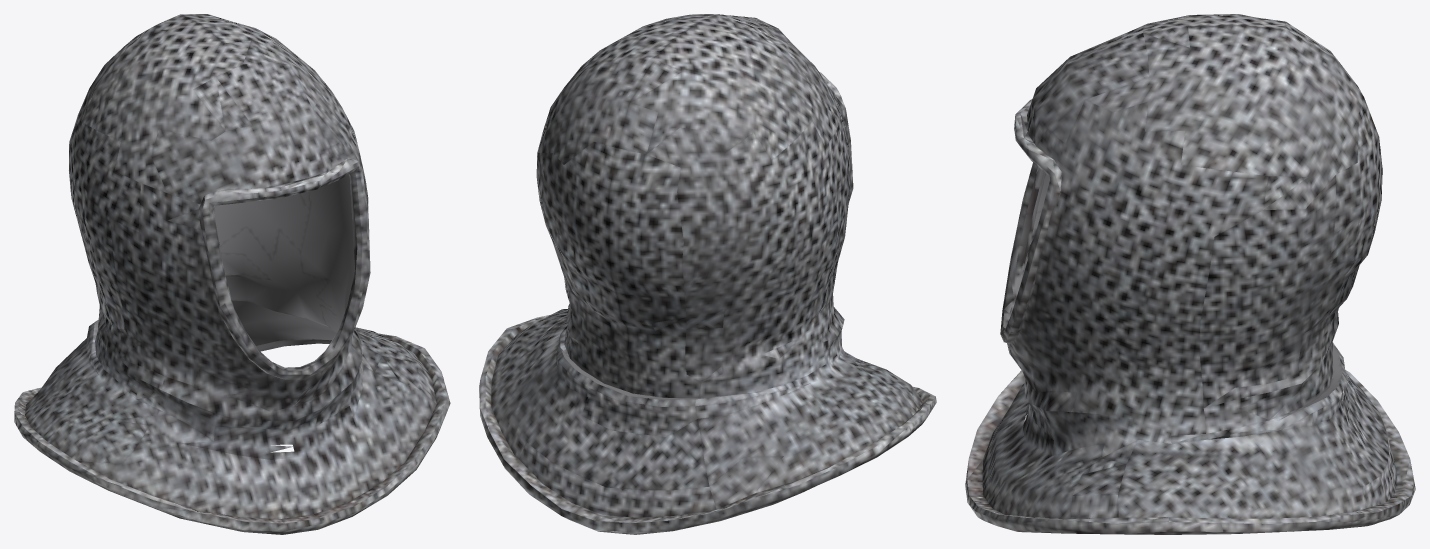
Rendered from item_mm9_10116.glb.
3 views of the same model, side by side, from view 1: azimuth 30°, elevation 25°; view 2: azimuth 150°, elevation 25°; view 3: azimuth 270°, elevation 25° (orthographic). The views are drawn at different scales.
Visible parts, largest first — view 1: d10116; view 2: d10116; view 3: d10116.
Part boxes in pixels (x1=…): d10116: x1=14, y1=14, x2=450, y2=534; d10116: x1=479, y1=14, x2=936, y2=534; d10116: x1=965, y1=14, x2=1415, y2=534.
Bounding box in the file's own units: 0.9738 × 1 × 0.8677.
1 material, 1 textured.
